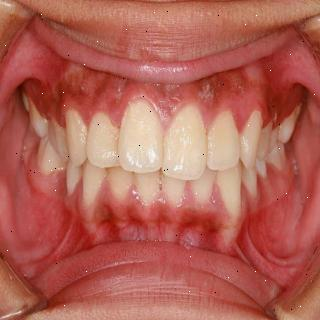Gum Swelling: (65, 83, 150, 128), (94, 185, 177, 218), (151, 90, 194, 129), (175, 184, 226, 216), (31, 158, 67, 192), (232, 95, 262, 135), (198, 97, 231, 130)
maligned: (117, 99, 163, 175), (87, 101, 123, 170)
plaque: (164, 102, 207, 173), (122, 91, 162, 166), (208, 107, 240, 170), (90, 109, 120, 163), (65, 105, 86, 162), (242, 112, 264, 160), (44, 112, 66, 152), (27, 98, 47, 136), (280, 109, 300, 137), (261, 122, 279, 149)
